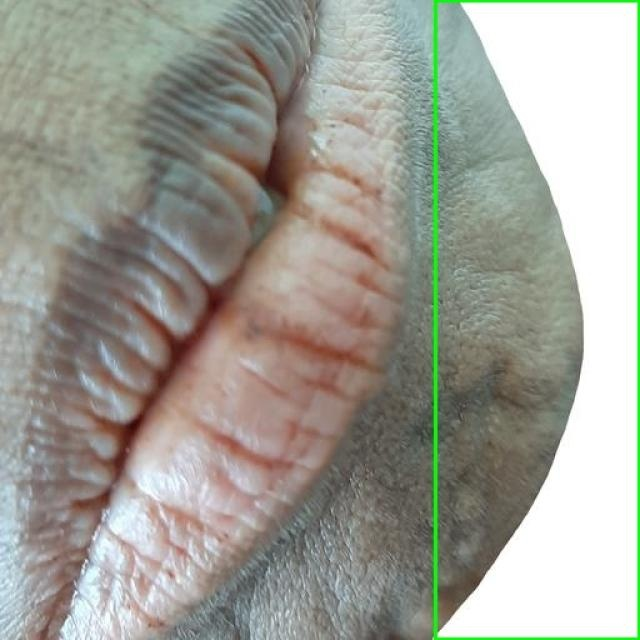Eczema: (435, 0, 639, 639)
